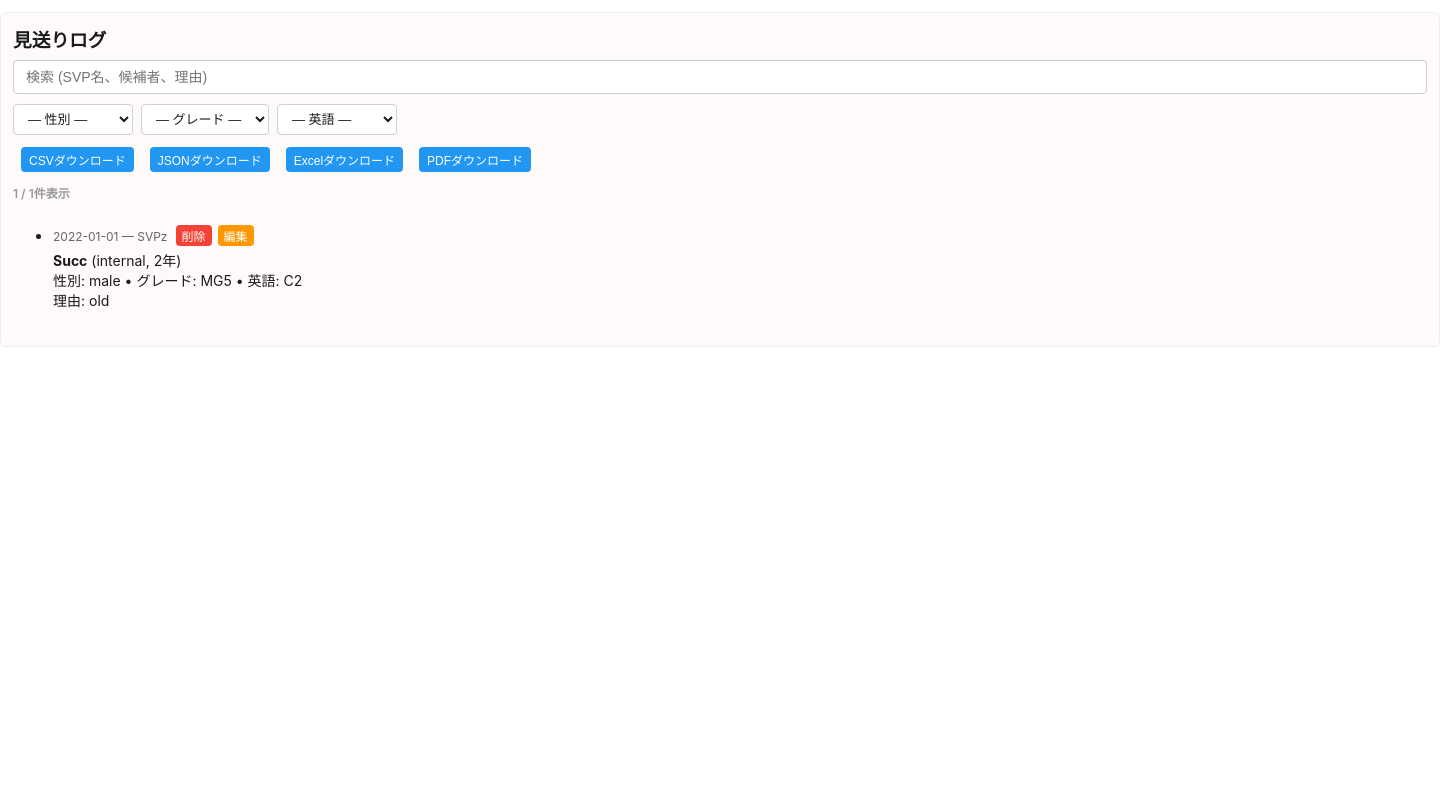
Test case: user can open edit modal and submit changes
Expected: the text "2022-01-01 — SVPz 削除 編集" is shown, top-left (53, 225), bottom-right (254, 246)
Expected: the text "理由: old" is shown, top-left (53, 292), bottom-right (109, 309)
Step 1. Click the button "編集" → (236, 236), box top-left (218, 225), bottom-right (254, 246)
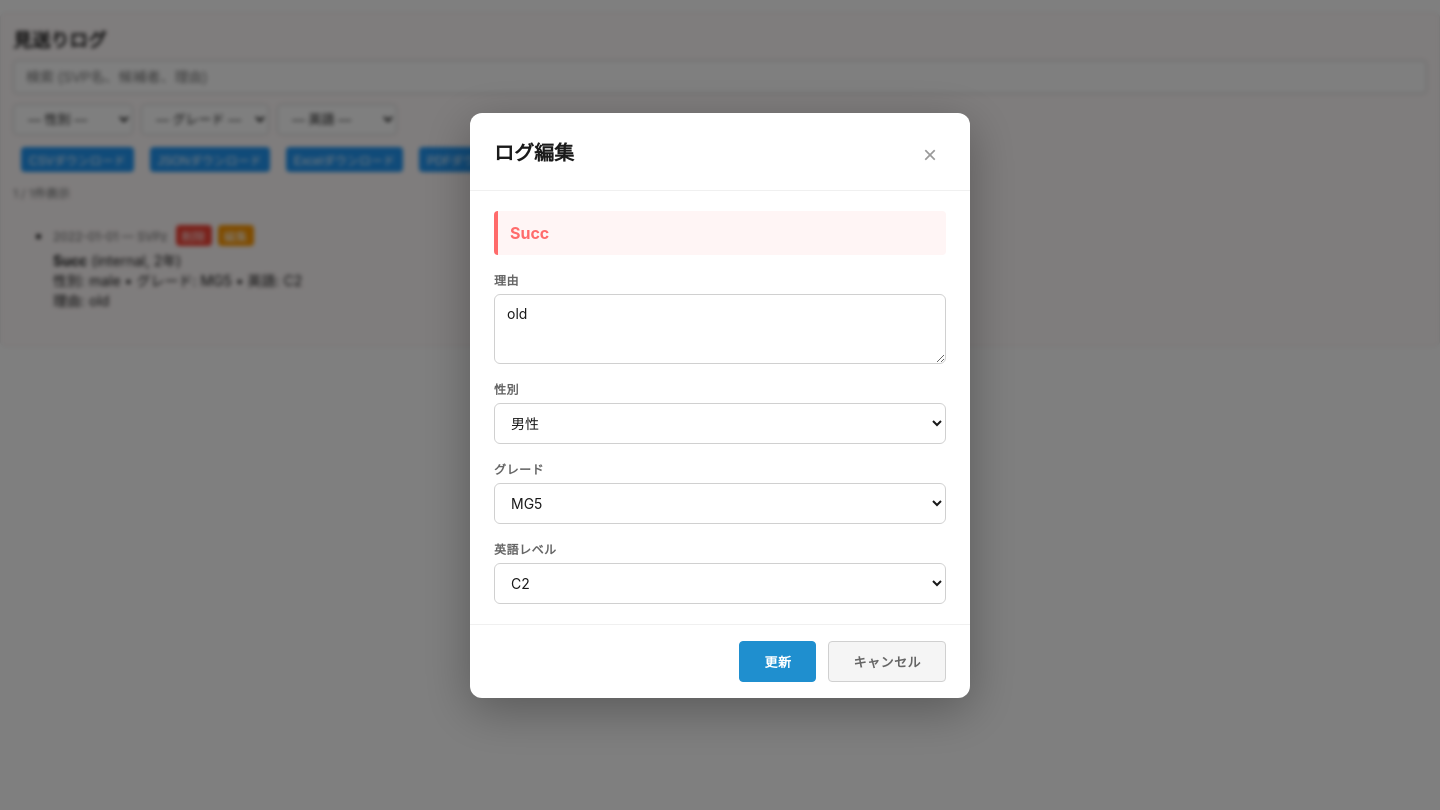
Result: the text box labelled "理由" holds "old"
change reason and submit
Step 2. Replace the text in the text box labelled "理由" with "newReason" → (720, 328), box top-left (494, 294), bottom-right (946, 364)
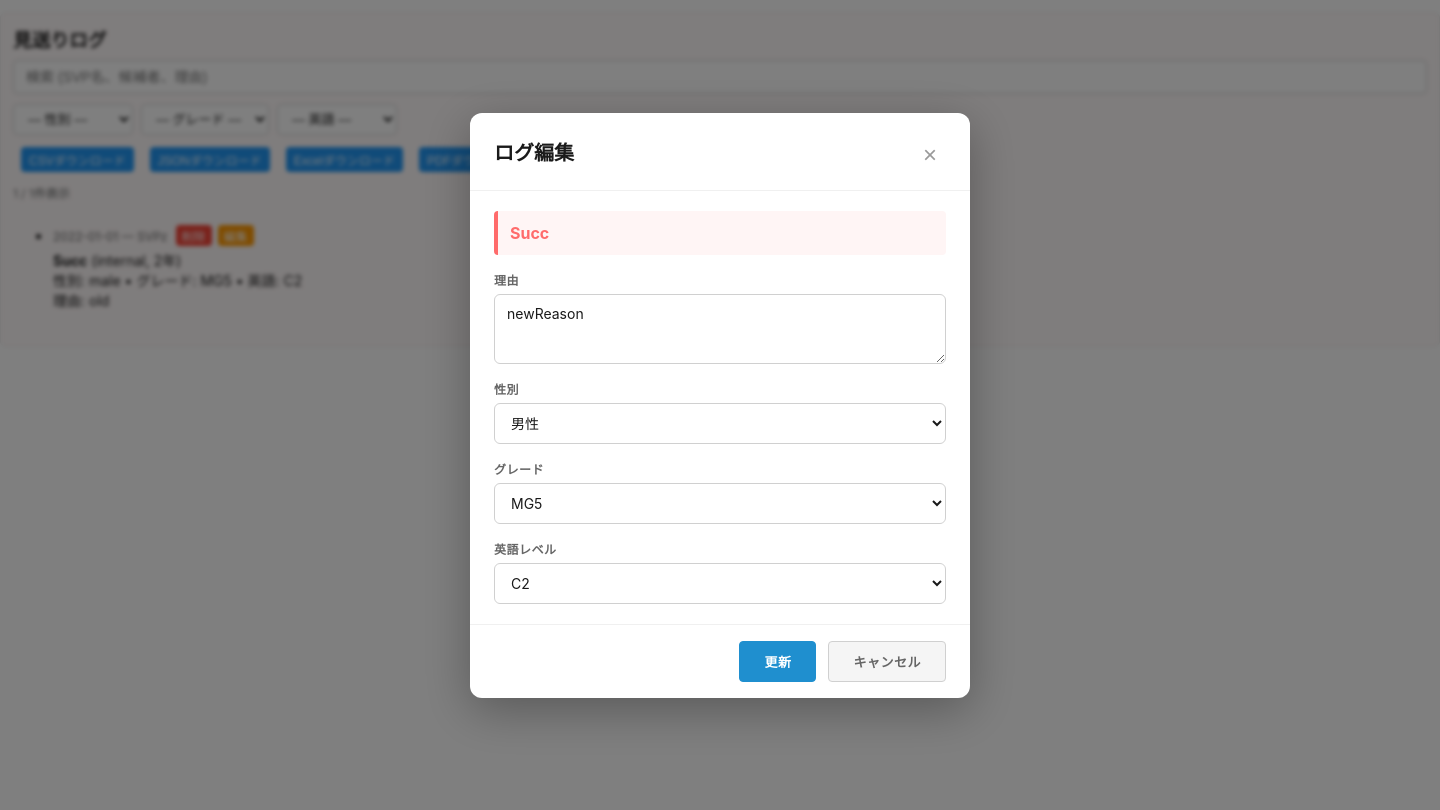
Step 3. Click the button "更新" → (778, 661), box top-left (740, 640), bottom-right (816, 682)
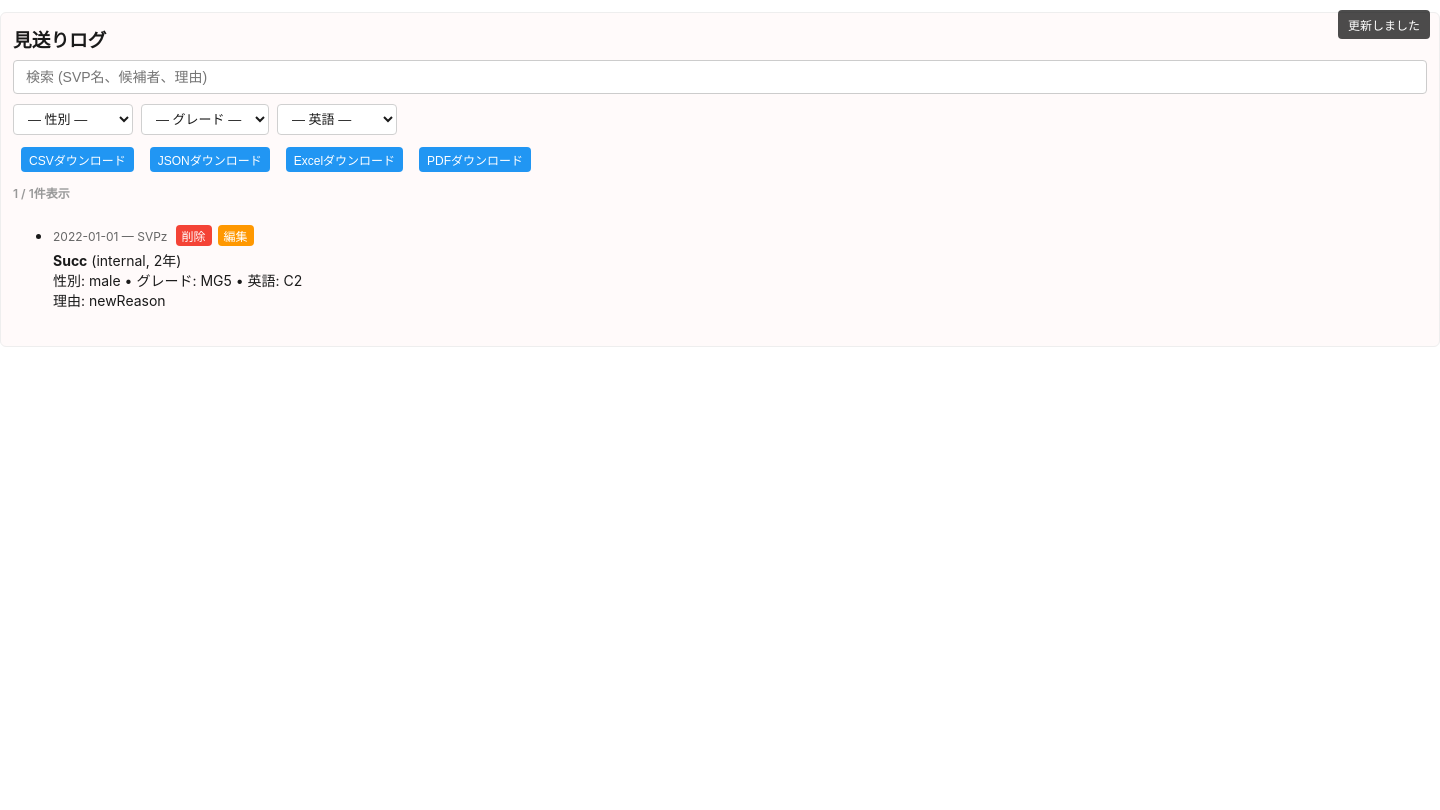
Result: the text "理由: newReason" is shown at top-left (53, 292), bottom-right (166, 309)
